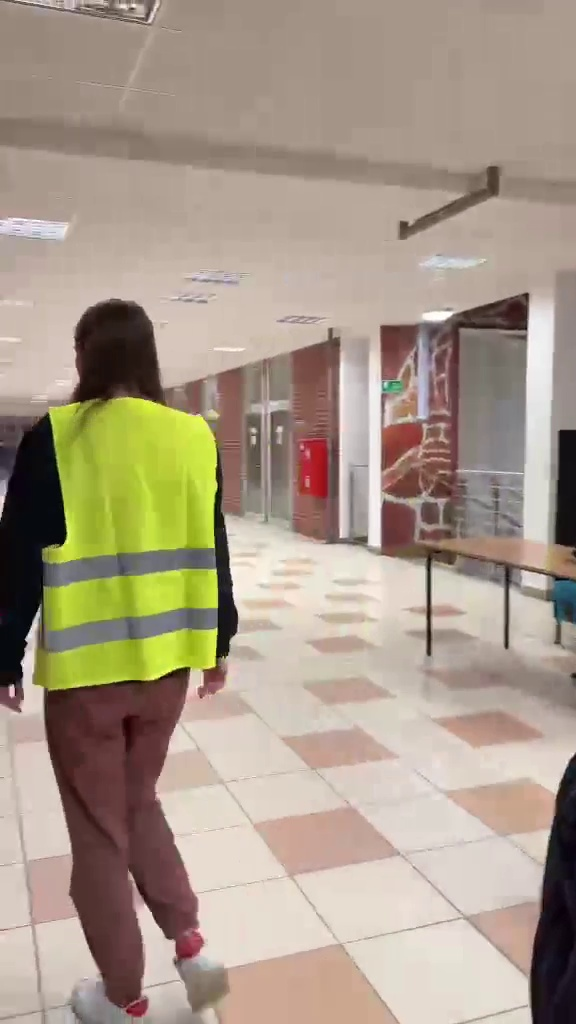vest: (8, 297, 254, 1010)
